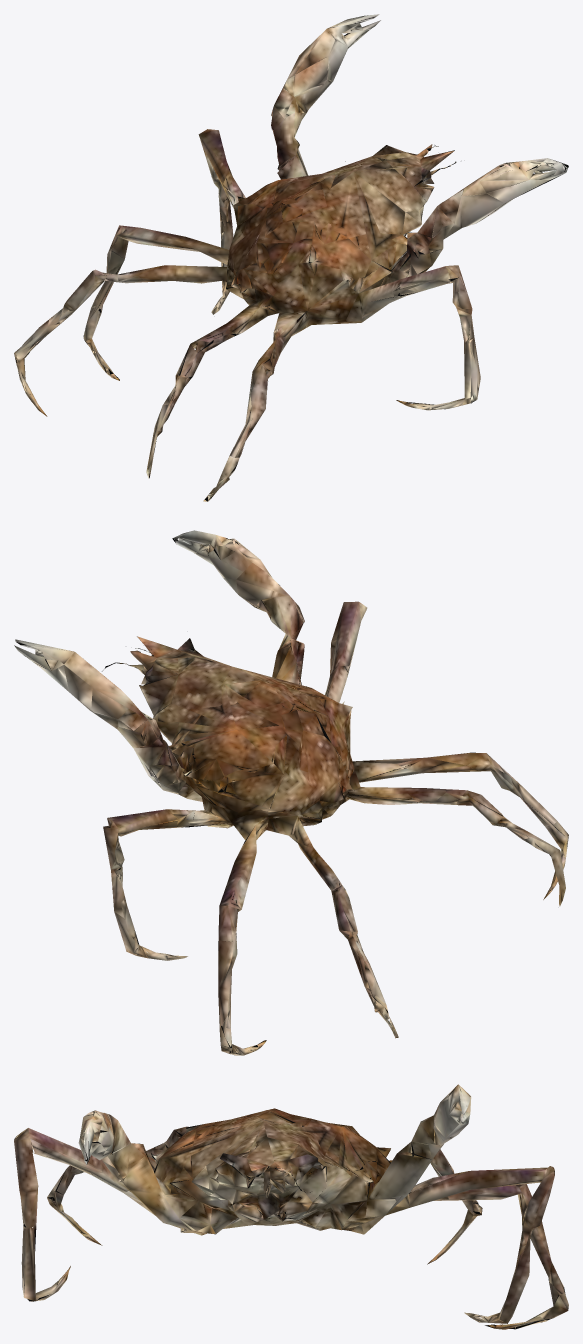
File: scan_crab_decorator.glb
The picture shows the model from 3 angles, top to bottom: view 1: azimuth 30°, elevation 25°; view 2: azimuth 150°, elevation 25°; view 3: azimuth 270°, elevation 25°; orthographic projection. The views are drawn at different scales.
Visible parts, largest first — view 1: scan_crab_decorator; view 2: scan_crab_decorator; view 3: scan_crab_decorator.
Part boxes in pixels (<box>): scan_crab_decorator: <box>14,14,568,501</box>; scan_crab_decorator: <box>14,530,568,1055</box>; scan_crab_decorator: <box>14,1084,568,1329</box>.
Size of the model in its own units: 0.1092 by 0.083 by 0.1194.
1 material, 1 textured.
